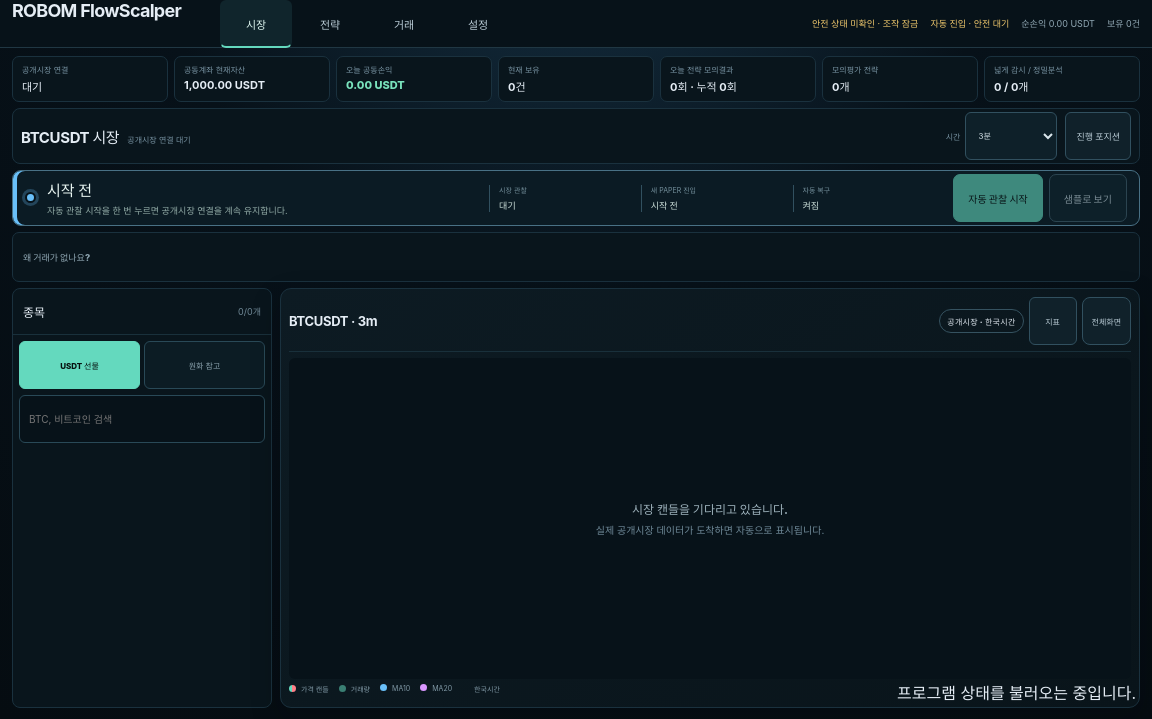
Test: returns home and fetches the latest PAPER summary when the brand is clicked
Click the button "전략" at [330, 24], box [294, 0, 366, 48]
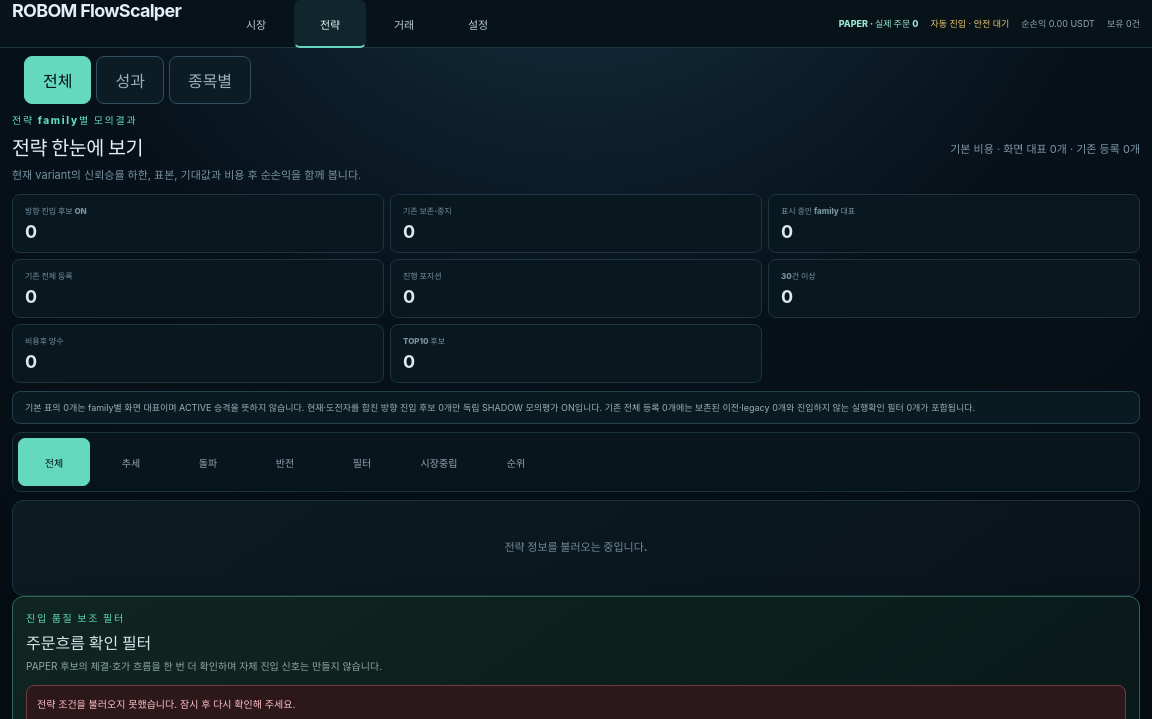
expect the heading "전략 한눈에 보기" is shown: met, box [12, 136, 143, 160]
Click the button with aria-label "시장 메인으로 이동하고 최신 상태 불러오기" at [107, 24], box [12, 0, 202, 48]
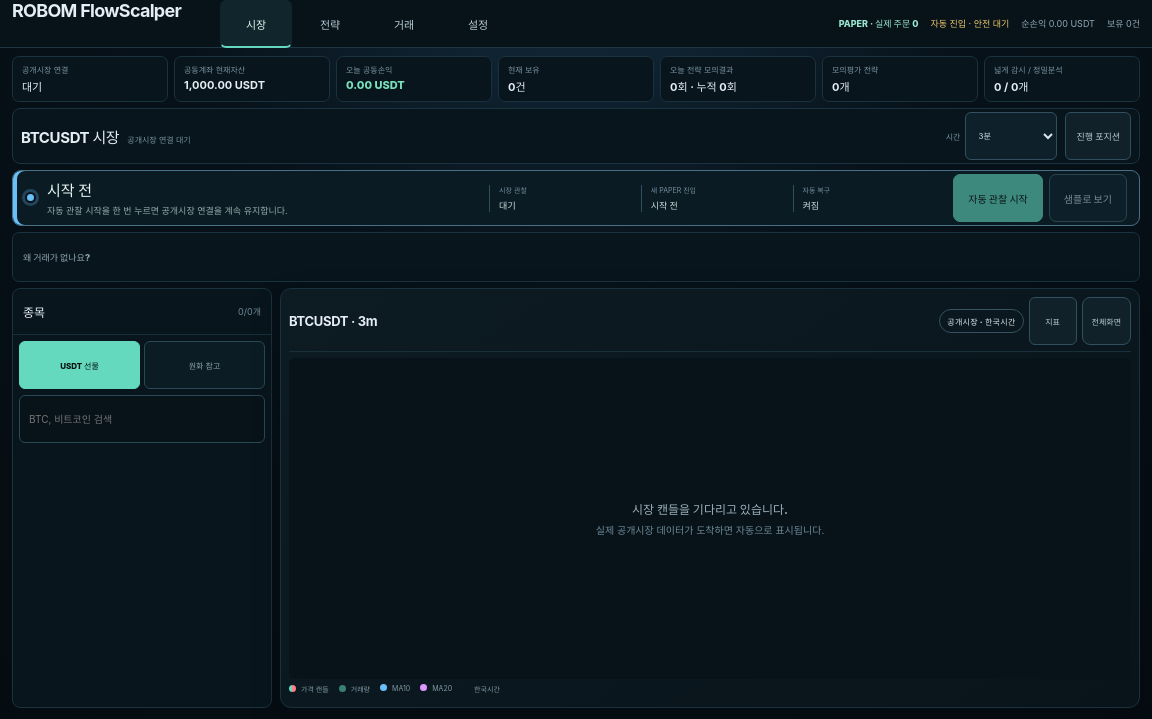
expect the heading "BTCUSDT 시장" is shown: met, box [21, 128, 119, 146]
